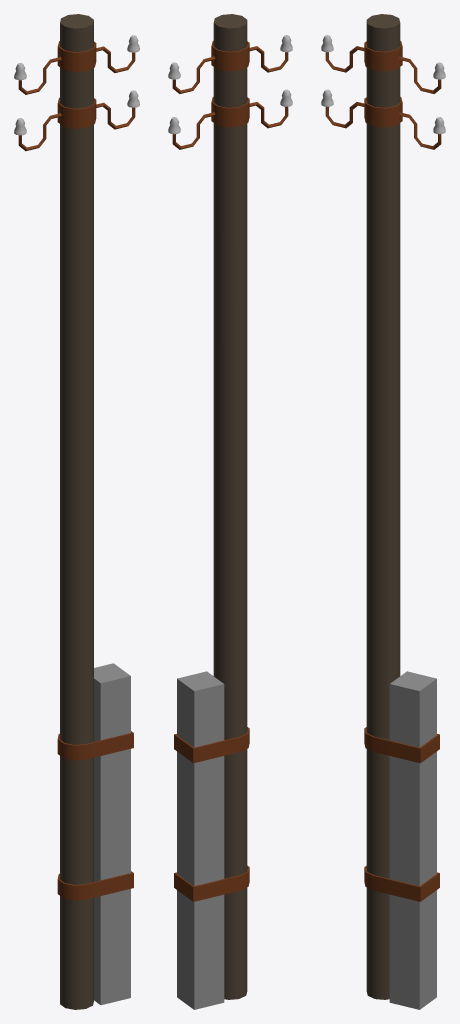
Rendered from Pillar4_1.fbx.
The picture shows the model from 3 angles, left to right: view 1: azimuth 30°, elevation 25°; view 2: azimuth 210°, elevation 25°; view 3: azimuth 330°, elevation 25°; orthographic projection.
Parts seen in each view (by area): view 1: Pillar.005; view 2: Pillar.005; view 3: Pillar.005.
Boxes of the visible parts, x1,y1,x2,y2 form: Pillar.005: [14, 14, 139, 1009]; Pillar.005: [168, 14, 292, 1009]; Pillar.005: [321, 14, 445, 1009].
Bounding box in the file's own units: 72.22 × 547 × 19.95.
